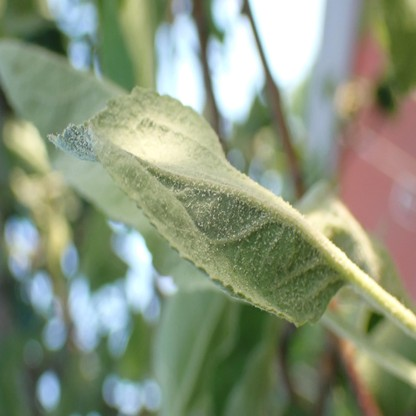powdery_mildew: (49, 83, 347, 325)
